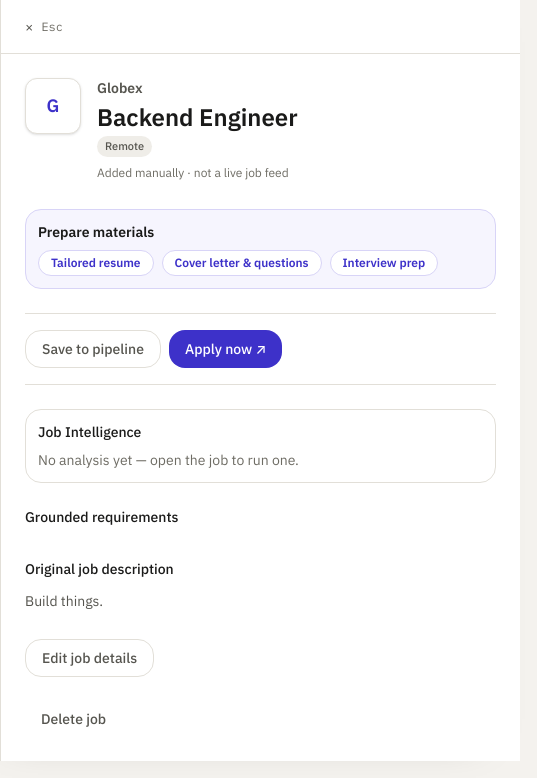
Test case: FocusPanel — job flavour › hides Save to pipeline once the job is saved
This screenshot has width=537, height=778.
Click the button "Save to pipeline": point(93, 348) [25,330,161,368]
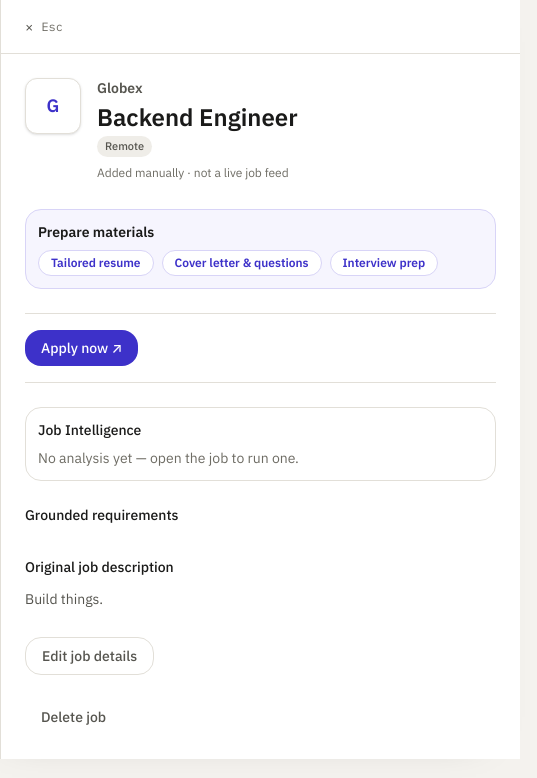
Now the button "Save to pipeline" is gone
